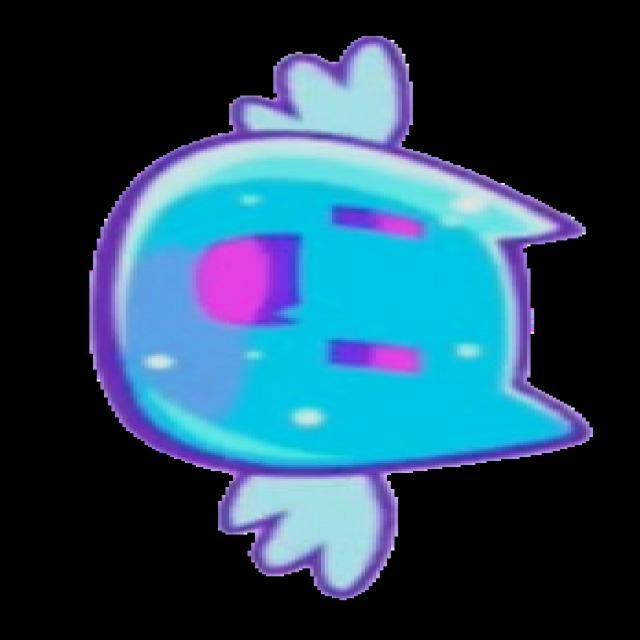Sky Monster - Blue Devil: (84, 34, 596, 600)
